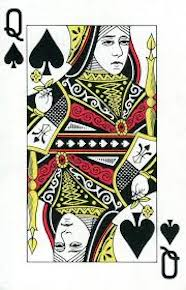QueenOfSpades: (1, 1, 186, 288)
